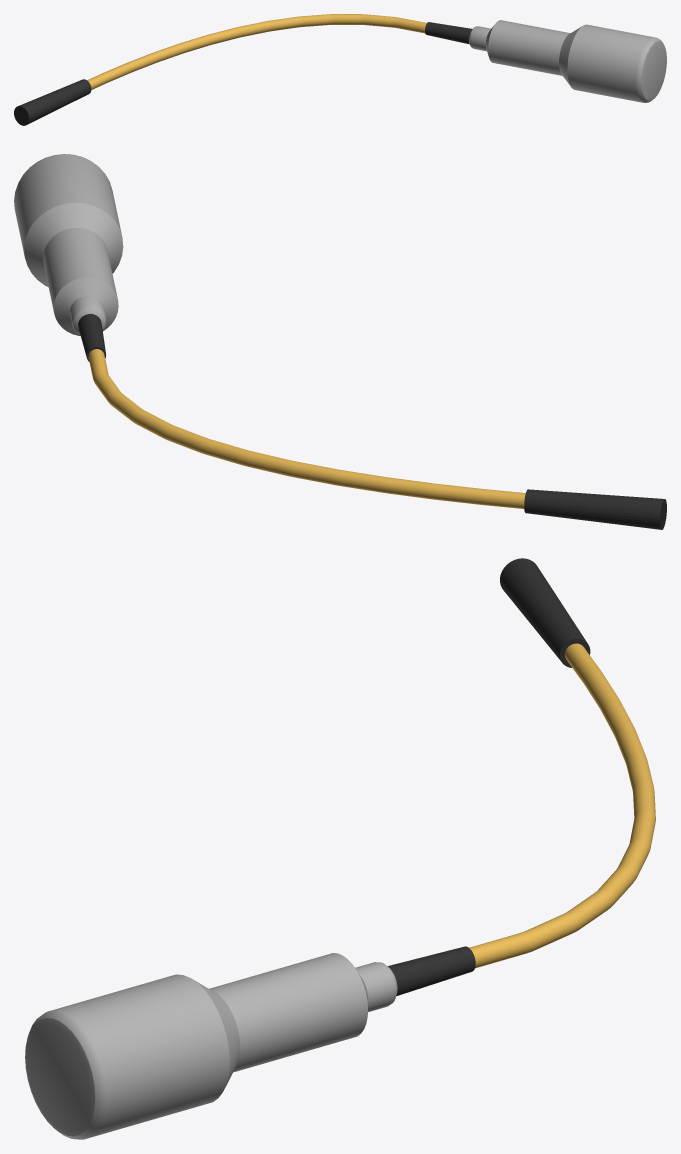
The model's file is SM_FibraRef.fbx.
The picture shows the model from 3 angles, top to bottom: view 1: azimuth 30°, elevation 25°; view 2: azimuth 150°, elevation 25°; view 3: azimuth 270°, elevation 25°; orthographic projection. The views are drawn at different scales.
Parts seen in each view (by area): view 1: Optical fibre.002; view 2: Optical fibre.002; view 3: Optical fibre.002.
Boxes of the visible parts, x1,y1,x2,y2 form: Optical fibre.002: (14, 14, 666, 125); Optical fibre.002: (14, 154, 666, 529); Optical fibre.002: (25, 558, 655, 1139).
Size of the model in its own units: 1.51 by 0.1623 by 0.7596.
